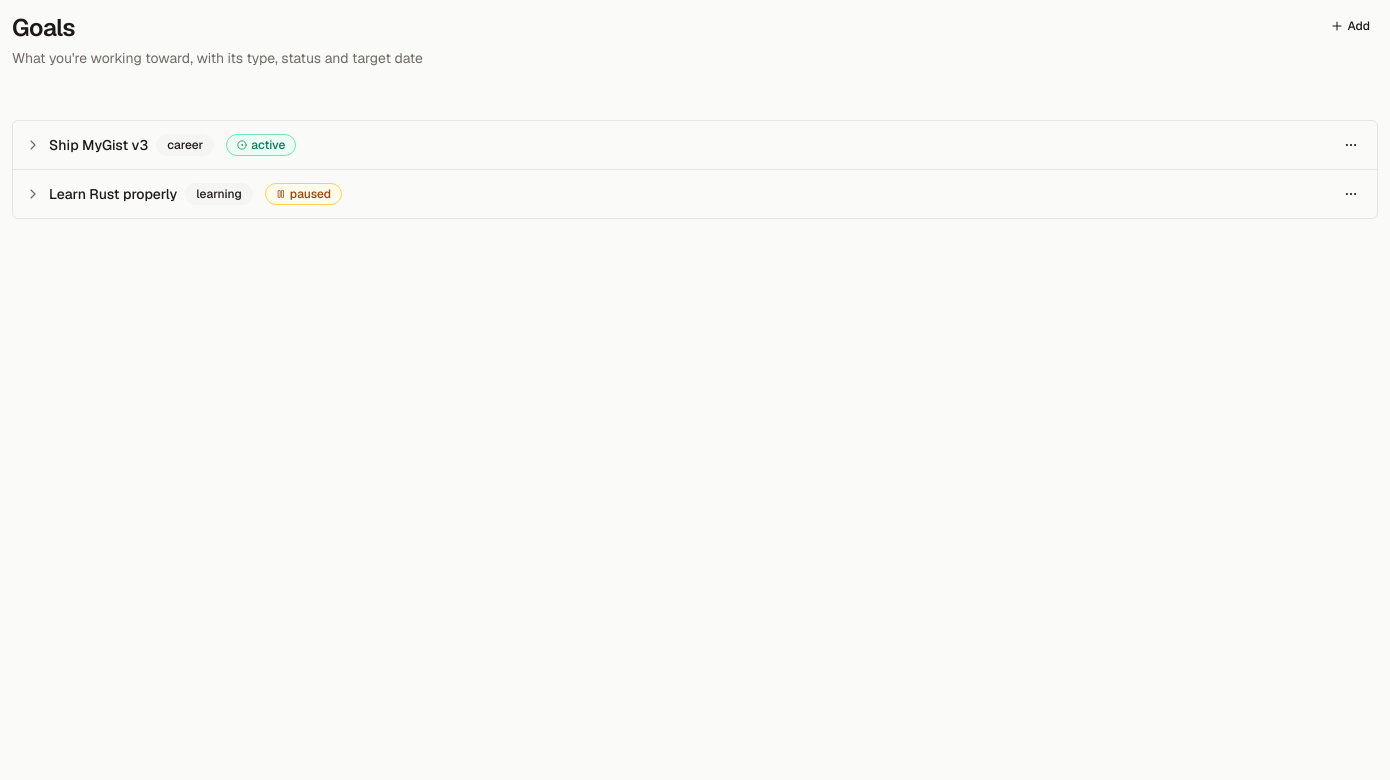
Test: SectionRenderer › title field is always editable › round-trips a rename through the body control
Click the text "Ship MyGist v3": (99, 145) [49,135,148,155]
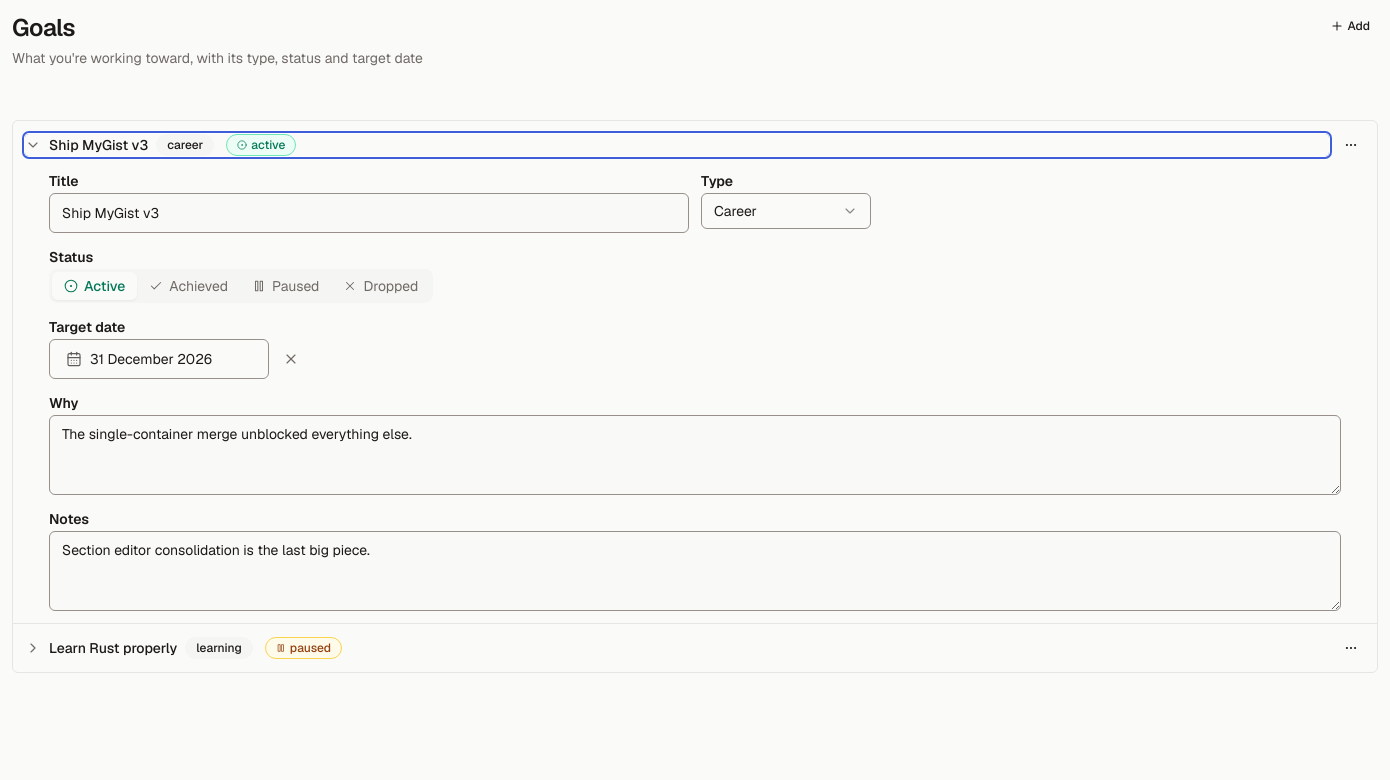
In the field showing "Ship MyGist v3": (369, 213) [49,193,689,233], type "!"
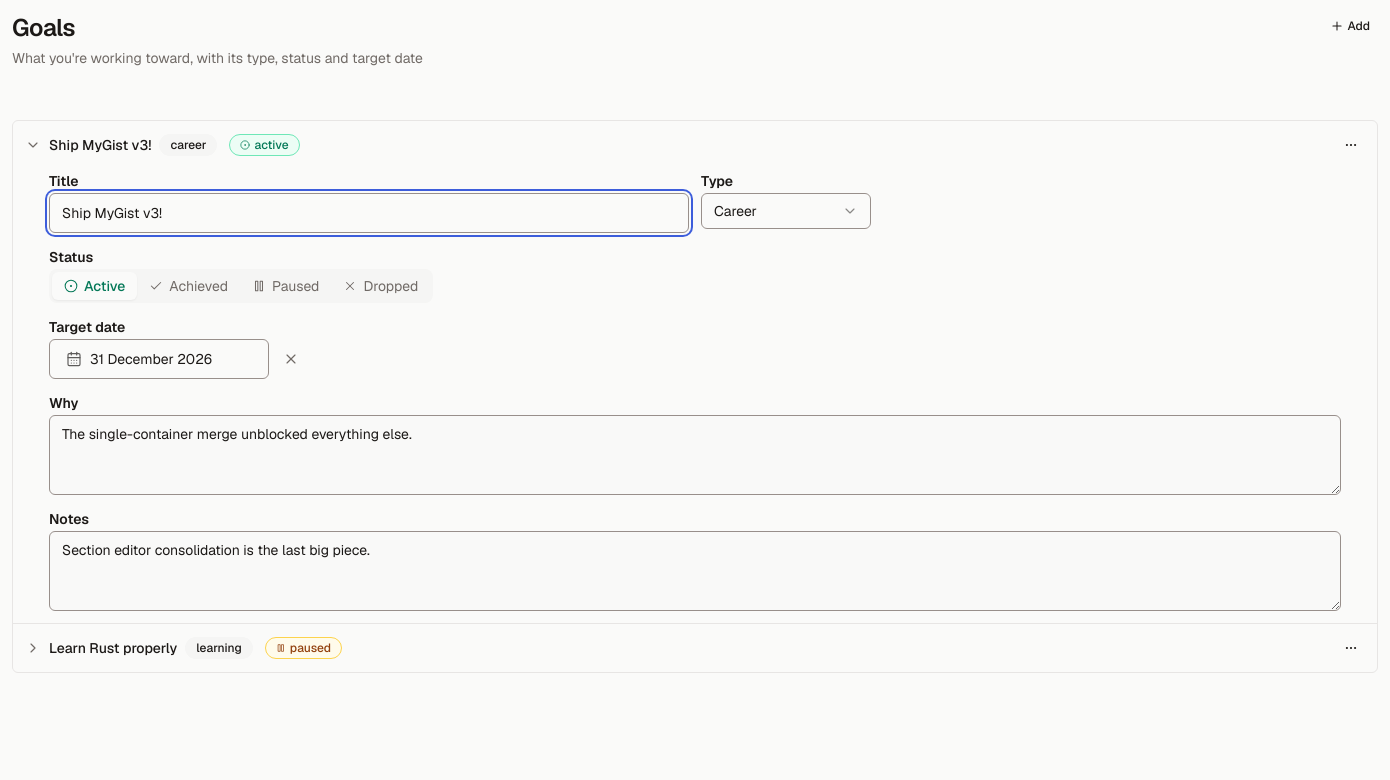
Expected: the text "Ship MyGist v3!" is shown, [49,135,151,155]
